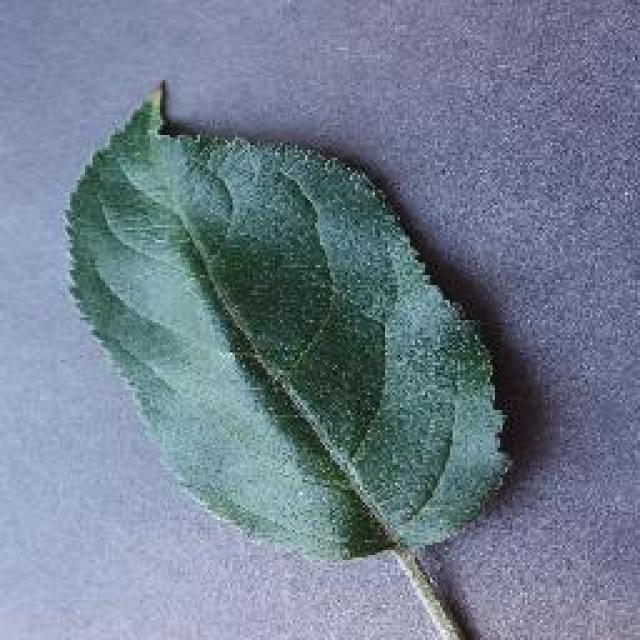apple healthy: (60, 75, 515, 565)
